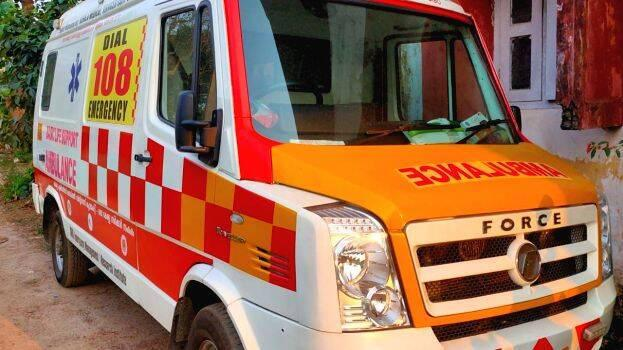ER: (32, 0, 616, 350)
